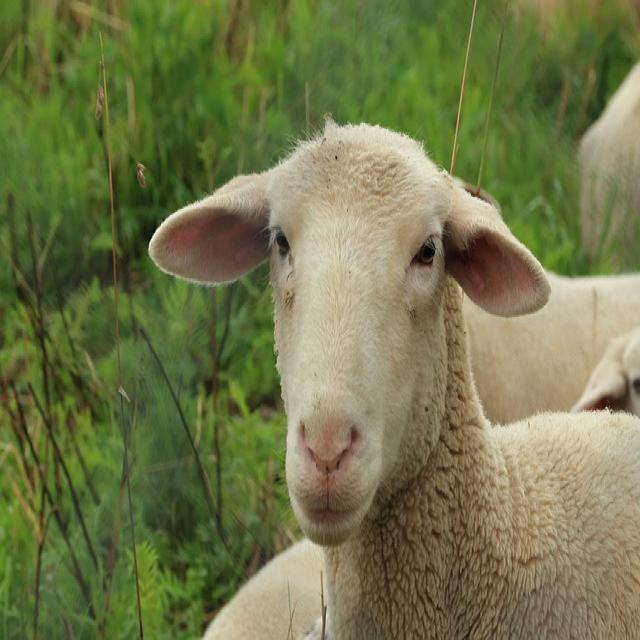goat: (147, 120, 640, 640)
